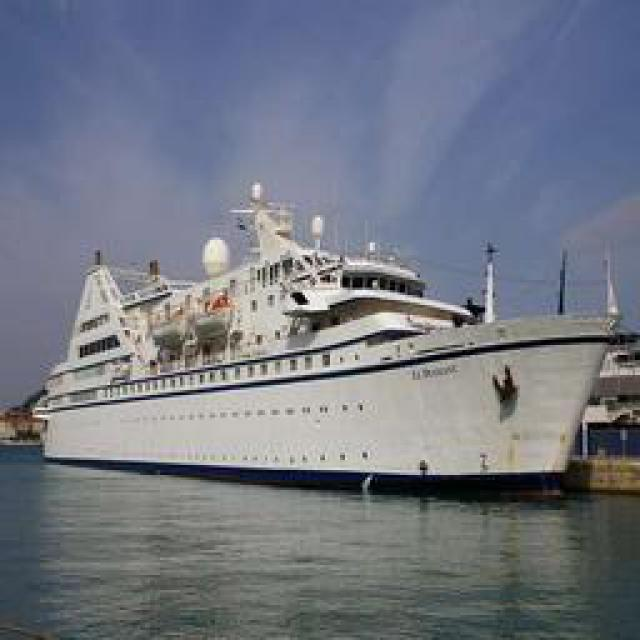Ship: (30, 206, 618, 484)
